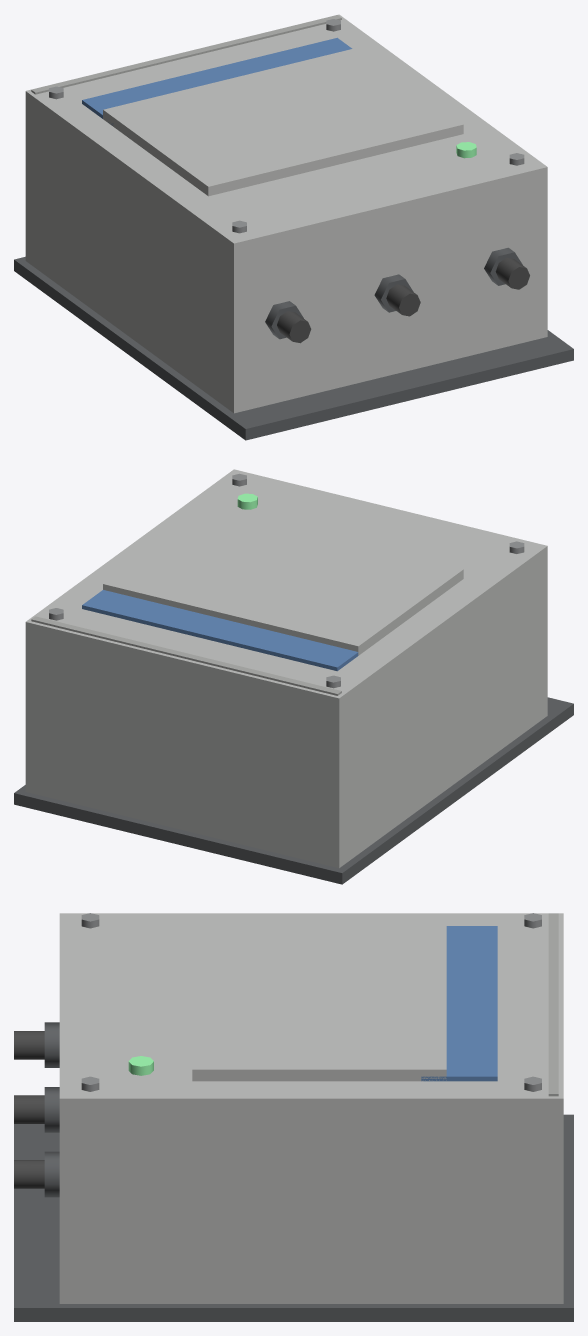
The model's file is lgAnd_steel.glb.
3 views of the same model, one above another, from view 1: azimuth 30°, elevation 25°; view 2: azimuth 150°, elevation 25°; view 3: azimuth 270°, elevation 25° (orthographic). The views are drawn at different scales.
Parts seen in each view (by area): view 1: lgAnd_steel; view 2: lgAnd_steel; view 3: lgAnd_steel.
Part boxes in pixels (bbox=[...]): lgAnd_steel: bbox=[14, 14, 573, 440]; lgAnd_steel: bbox=[14, 469, 573, 884]; lgAnd_steel: bbox=[14, 913, 573, 1321].
Size of the model in its own units: 0.18 by 0.1 by 0.22.
